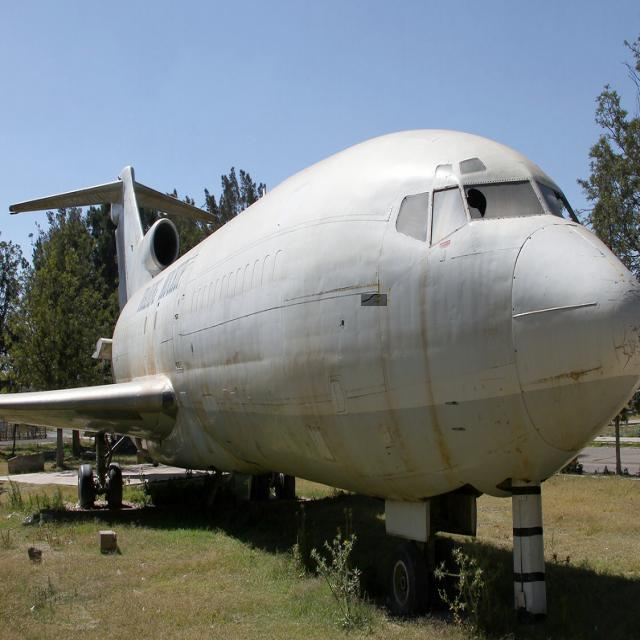crack: (363, 295, 389, 307)
